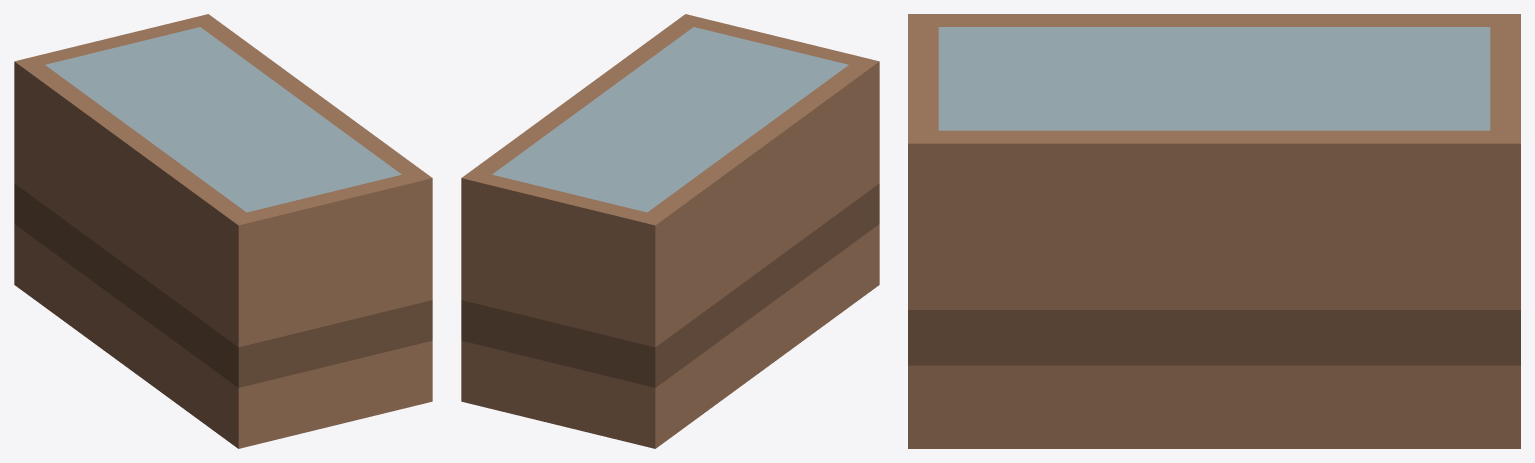
File: bañera_oxidado_01.glb
3 renders of one model, left to right at view 1: azimuth 30°, elevation 25°; view 2: azimuth 150°, elevation 25°; view 3: azimuth 270°, elevation 25°, orthographic. The views are drawn at different scales.
Parts seen in each view (by area): view 1: bañera_oxidado; view 2: bañera_oxidado; view 3: bañera_oxidado.
Boxes of the visible parts, box(x1,y1,x2,y2) form: bañera_oxidado: box(14, 14, 432, 448); bañera_oxidado: box(461, 14, 879, 448); bañera_oxidado: box(908, 14, 1520, 448).
Bounding box in the file's own units: 1 × 1.1 × 2.
